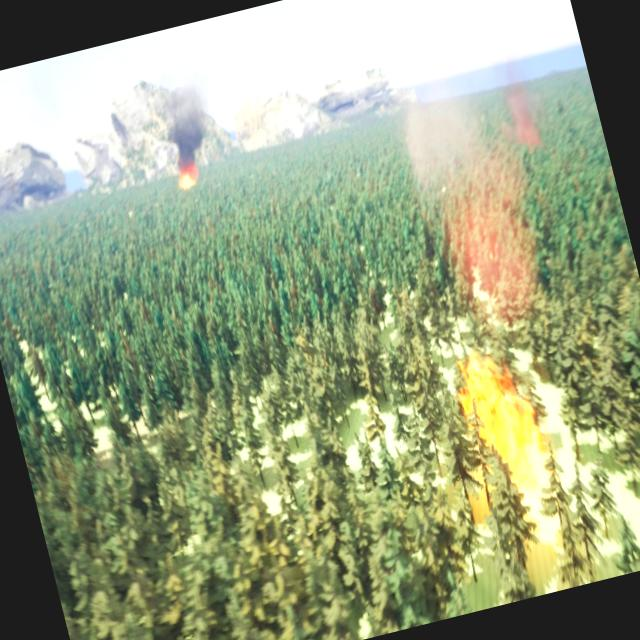fire: (448, 337, 552, 512), (170, 162, 200, 188)
smoke: (390, 55, 590, 340), (152, 61, 232, 170)
